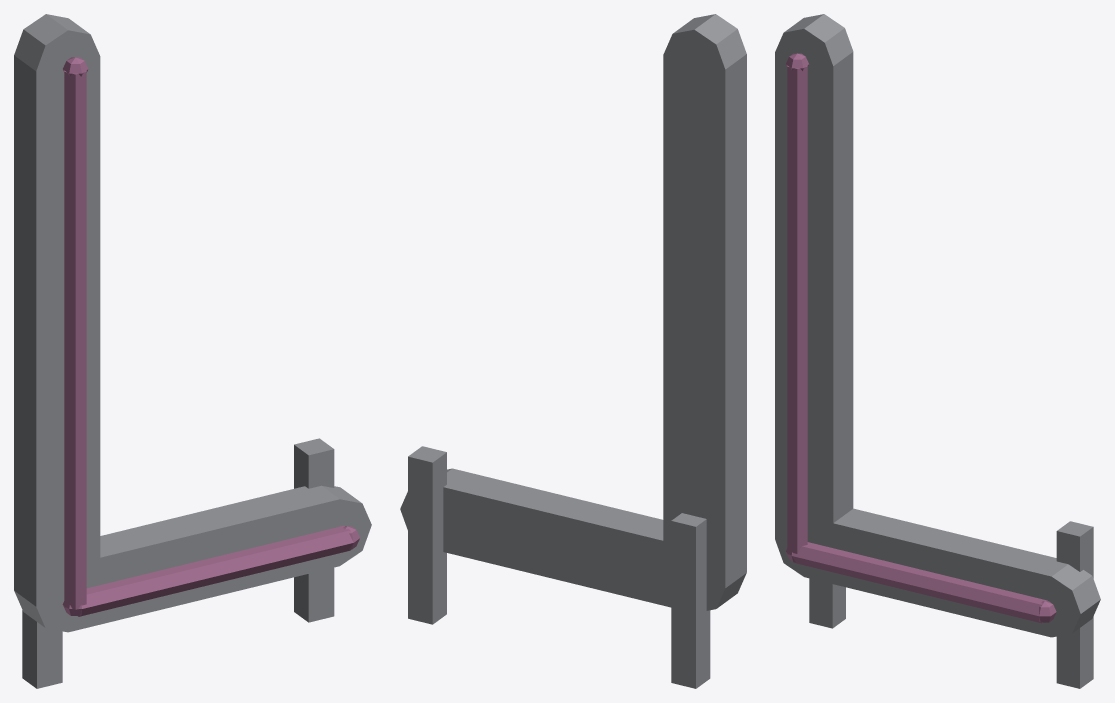
File: HJ_Neon_L.fbx
The picture shows the model from 3 angles, left to right: view 1: azimuth 30°, elevation 25°; view 2: azimuth 150°, elevation 25°; view 3: azimuth 330°, elevation 25°; orthographic projection. The views are drawn at different scales.
Visible parts, largest first — view 1: HJ_Neon_L; view 2: HJ_Neon_L; view 3: HJ_Neon_L.
Boxes of the visible parts, x1,y1,x2,y2 form: HJ_Neon_L: (14, 14, 371, 688); HJ_Neon_L: (400, 14, 746, 688); HJ_Neon_L: (775, 14, 1100, 688).
Bounding box in the file's own units: 1.05 × 2 × 0.255.
